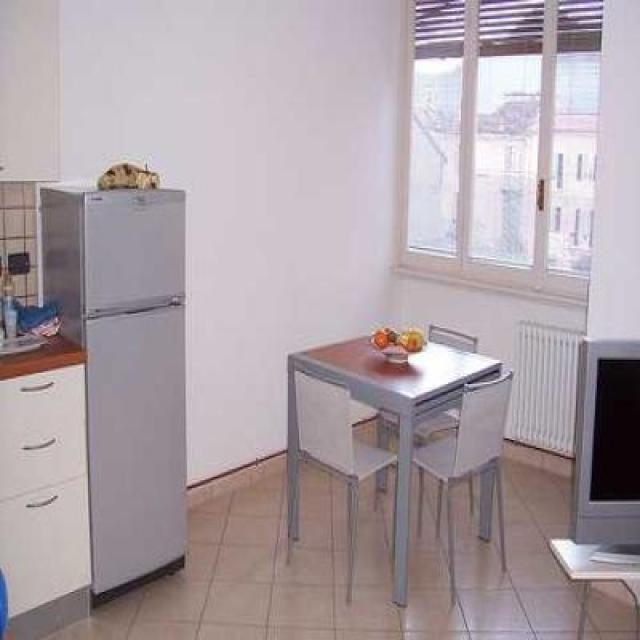refrigerator: (78, 167, 190, 628)
